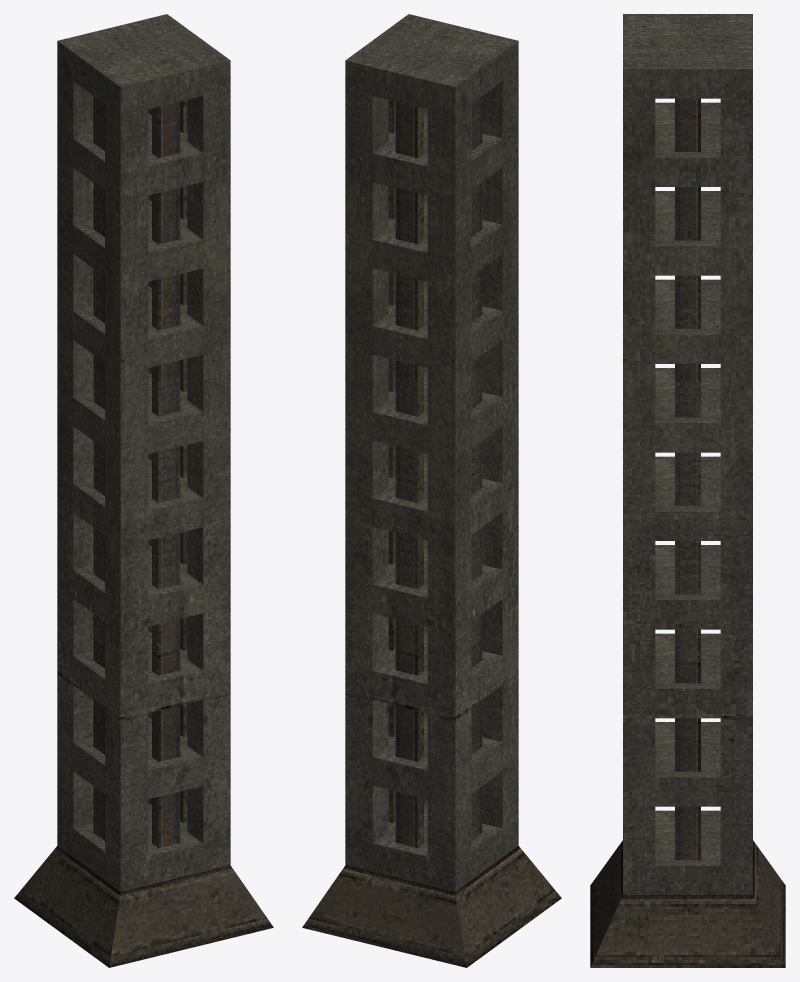
The model's file is pillar_rgx_2.glb.
3 views of the same model, side by side, from view 1: azimuth 30°, elevation 25°; view 2: azimuth 150°, elevation 25°; view 3: azimuth 270°, elevation 25° (orthographic). The views are drawn at different scales.
Visible parts, largest first — view 1: pillar_rgx_2; view 2: pillar_rgx_2; view 3: pillar_rgx_2.
Boxes of the visible parts, bbox=[...] form: pillar_rgx_2: bbox=[14, 14, 273, 967]; pillar_rgx_2: bbox=[302, 14, 561, 967]; pillar_rgx_2: bbox=[590, 14, 785, 967].
Bounding box in the file's own units: 0.6 × 3 × 0.6.
Materials: 2 (2 with a texture image).
